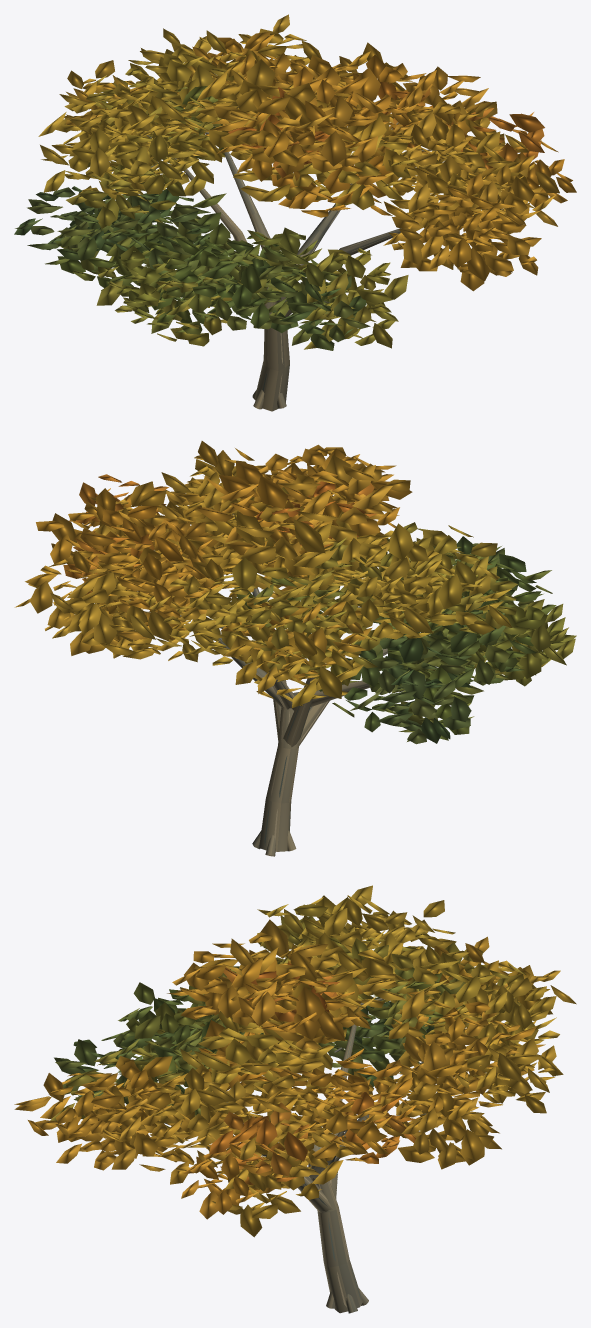
File: ART_MoatTree_Broad.glb
The picture shows the model from 3 angles, top to bottom: view 1: azimuth 30°, elevation 25°; view 2: azimuth 150°, elevation 25°; view 3: azimuth 270°, elevation 25°; orthographic projection. The views are drawn at different scales.
Parts seen in each view (by area): view 1: ART_MoatTree_Broad; view 2: ART_MoatTree_Broad; view 3: ART_MoatTree_Broad.
Part boxes in pixels (bbox=[...]): ART_MoatTree_Broad: bbox=[14, 14, 576, 411]; ART_MoatTree_Broad: bbox=[14, 441, 576, 856]; ART_MoatTree_Broad: bbox=[14, 885, 576, 1313].
Size of the model in its own units: 11.39 by 7.97 by 11.46.
